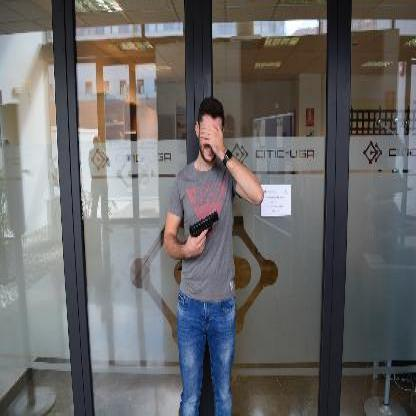pistol: (188, 209, 218, 236)
